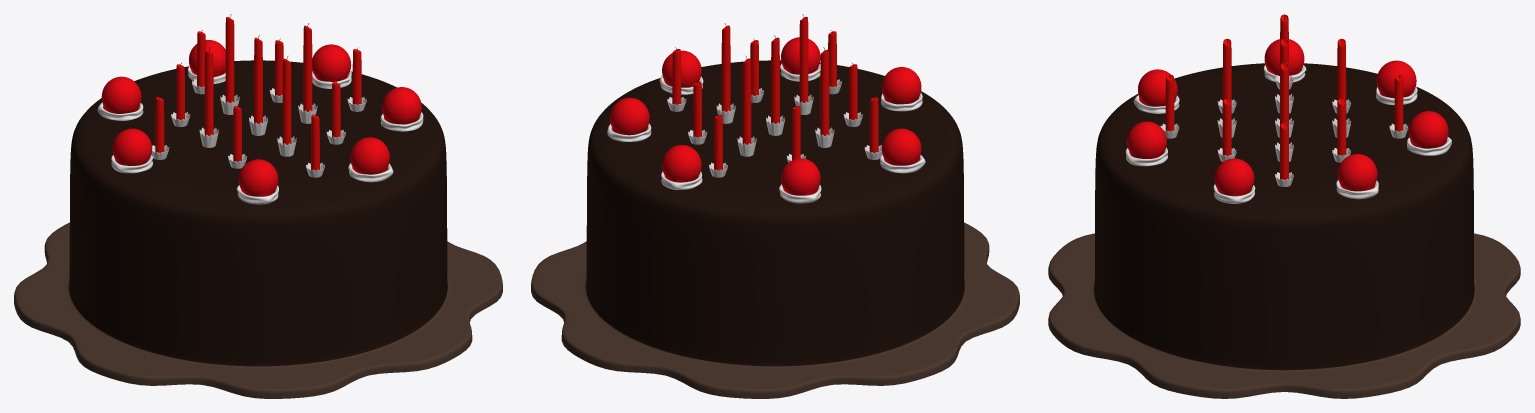
File: cake-2.fbx
The picture shows the model from 3 angles, left to right: view 1: azimuth 30°, elevation 25°; view 2: azimuth 150°, elevation 25°; view 3: azimuth 270°, elevation 25°; orthographic projection.
Parts seen in each view (by area): view 1: cake, decoration, candle.004, candle.002, candle.003, candle.001, candle, candle.010, candle.009, candle.012, candle.005, candle.007 (+3 smaller); view 2: cake, decoration, candle.003, candle.002, candle.004, candle.001, candle, candle.010, candle.009, candle.011, candle.006, candle.008 (+3 smaller); view 3: cake, decoration, candle.004, candle.003, candle.011, candle.001, candle.012, candle.010, candle.006, candle.005.
Part boxes in pixels (bbox=[...]): cake: bbox=[14, 60, 502, 398]; decoration: bbox=[97, 40, 423, 204]; candle.004: bbox=[277, 56, 296, 156]; candle.002: bbox=[199, 47, 218, 147]; candle.003: bbox=[220, 14, 239, 114]; candle.001: bbox=[298, 23, 317, 123]; candle: bbox=[249, 35, 267, 135]; candle.010: bbox=[347, 47, 366, 111]; candle.009: bbox=[151, 96, 169, 159]; candle.012: bbox=[306, 113, 324, 177]; candle.005: bbox=[326, 80, 345, 144]; candle.007: bbox=[171, 63, 190, 126]; cake: bbox=[531, 60, 1019, 398]; decoration: bbox=[607, 37, 925, 203]; candle.003: bbox=[737, 56, 756, 156]; candle.002: bbox=[815, 47, 834, 147]; candle.004: bbox=[794, 14, 813, 114]; candle.001: bbox=[716, 23, 735, 123]; candle: bbox=[766, 35, 784, 135]; candle.010: bbox=[667, 47, 686, 111]; candle.009: bbox=[864, 96, 882, 159]; candle.011: bbox=[709, 113, 727, 177]; candle.006: bbox=[688, 80, 706, 144]; candle.008: bbox=[843, 63, 862, 126]; cake: bbox=[1048, 63, 1520, 398]; decoration: bbox=[1125, 39, 1451, 203]; candle.004: bbox=[1217, 38, 1236, 137]; candle.003: bbox=[1332, 38, 1350, 137]; candle.011: bbox=[1389, 74, 1408, 138]; candle.001: bbox=[1275, 62, 1293, 161]; candle.012: bbox=[1160, 74, 1179, 138]; candle.010: bbox=[1275, 123, 1293, 186]; candle.006: bbox=[1332, 99, 1350, 162]; candle.005: bbox=[1217, 99, 1236, 161].
Size of the model in its own units: 248 by 151 by 248.
